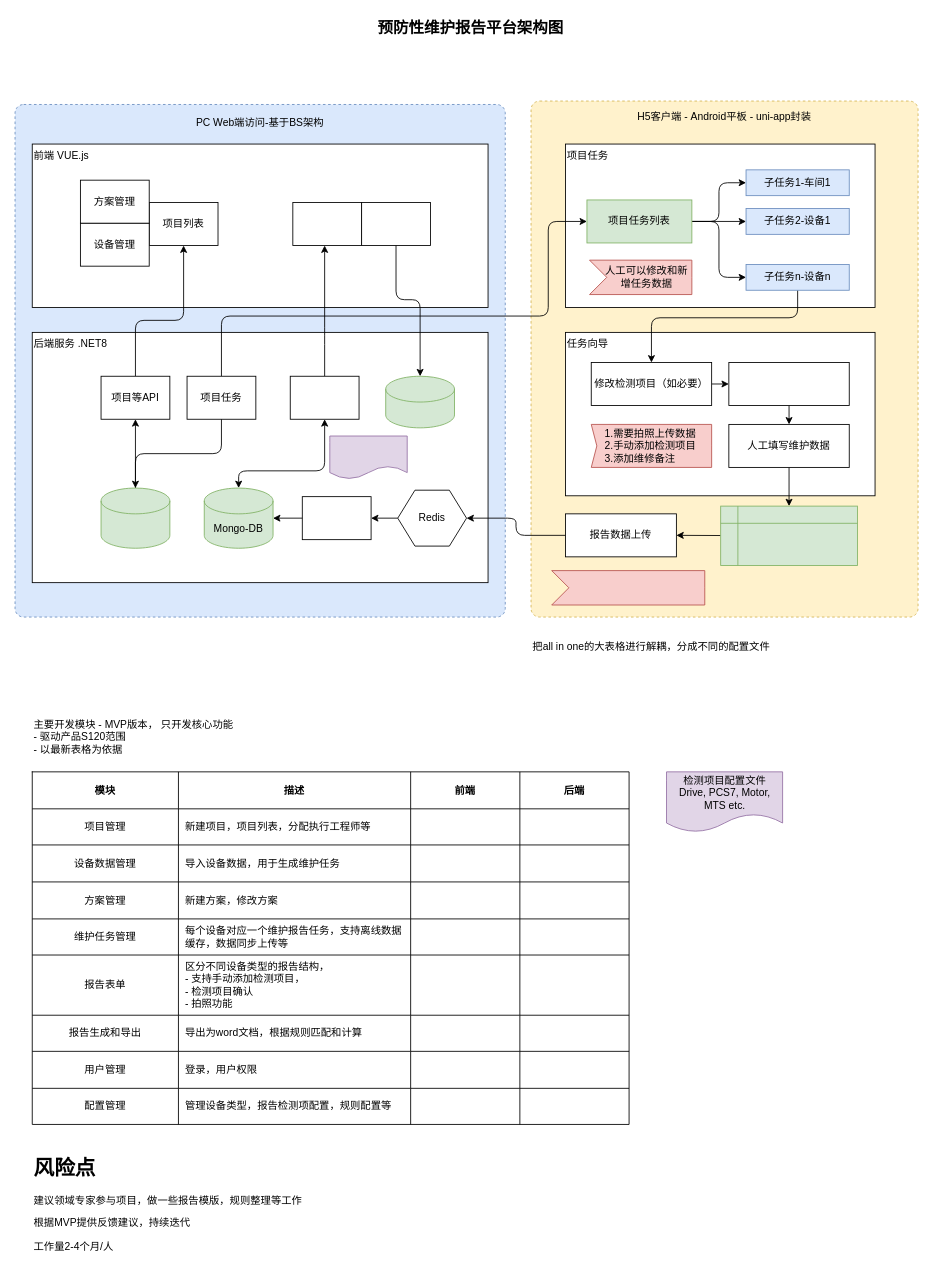
Image size: 933x1279. Some labels were removed from this diagram. Each missing label, with the centre of its shape:
"OSS" goes at (420,401).
"PG-DB" goes at (135,517).
"报告导入" goes at (395,224).
"报告导出" goes at (327,224).
"报告生成" goes at (324,397).
"按向导选择任务模块" goes at (788,383).
"数据上传接口 Json" goes at (336,518).
"本地数据存储" goes at (788,535).
"规则匹配引擎" goes at (368,457).
"重复数据上传以最后一次为准，以任务ID为key" goes at (628,587).
